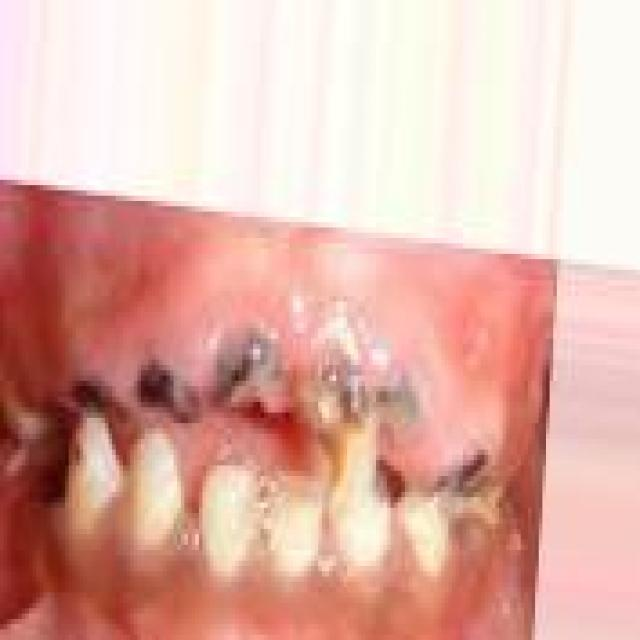caries: (294, 306, 412, 484), (213, 321, 295, 432), (133, 351, 205, 437), (430, 435, 491, 508), (68, 364, 117, 429)
